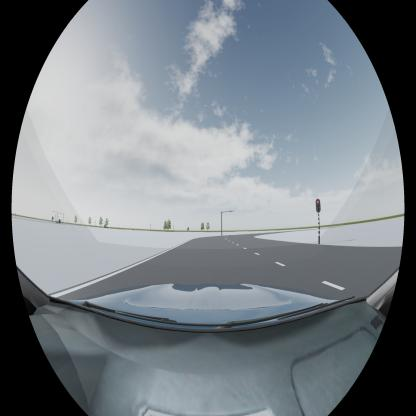Red Light: (316, 198, 321, 212)
